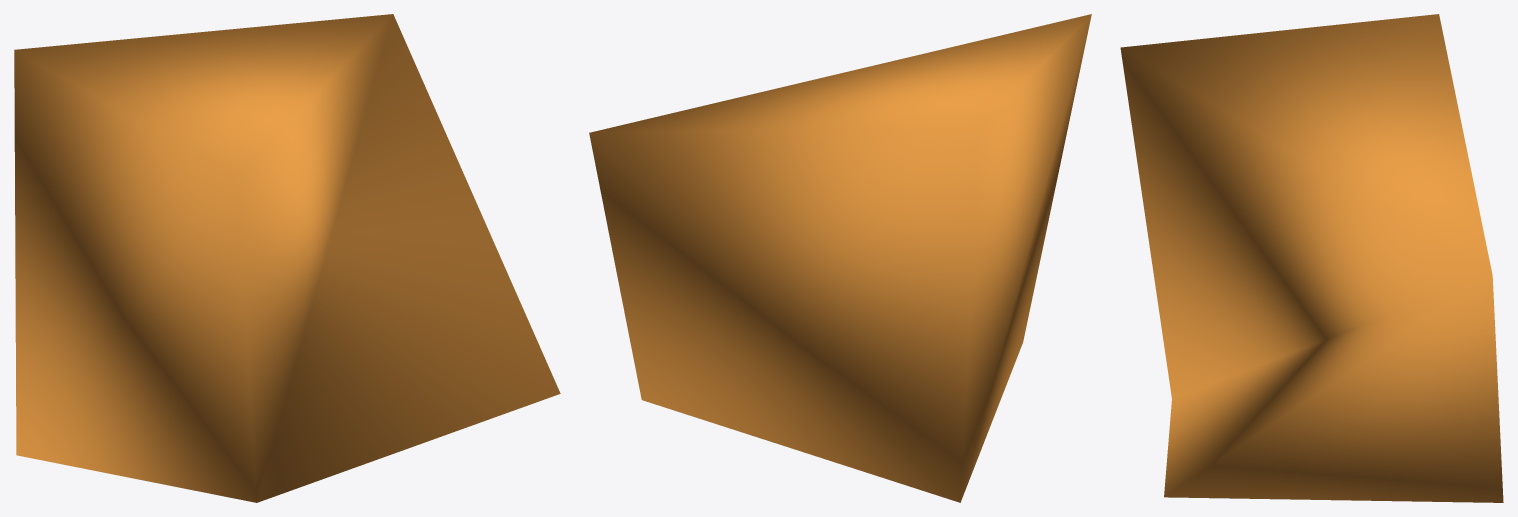
The model's file is rock7.glb.
3 views of the same model, side by side, from view 1: azimuth 30°, elevation 25°; view 2: azimuth 150°, elevation 25°; view 3: azimuth 270°, elevation 25° (orthographic). The views are drawn at different scales.
Visible parts, largest first — view 1: rock.007; view 2: rock.007; view 3: rock.007.
Boxes of the visible parts, x1,y1,x2,y2 form: rock.007: [14, 14, 560, 502]; rock.007: [589, 14, 1091, 502]; rock.007: [1120, 14, 1503, 502].
Bounding box in the file's own units: 3.76 × 3.66 × 3.32.
